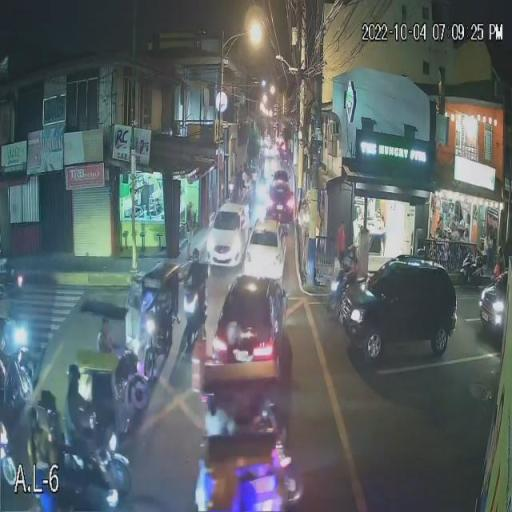helmet: (190, 246, 201, 264), (348, 242, 358, 260)
motorcycle: (181, 285, 210, 350), (328, 270, 348, 306)
rider: (188, 263, 209, 302), (348, 260, 360, 282)
